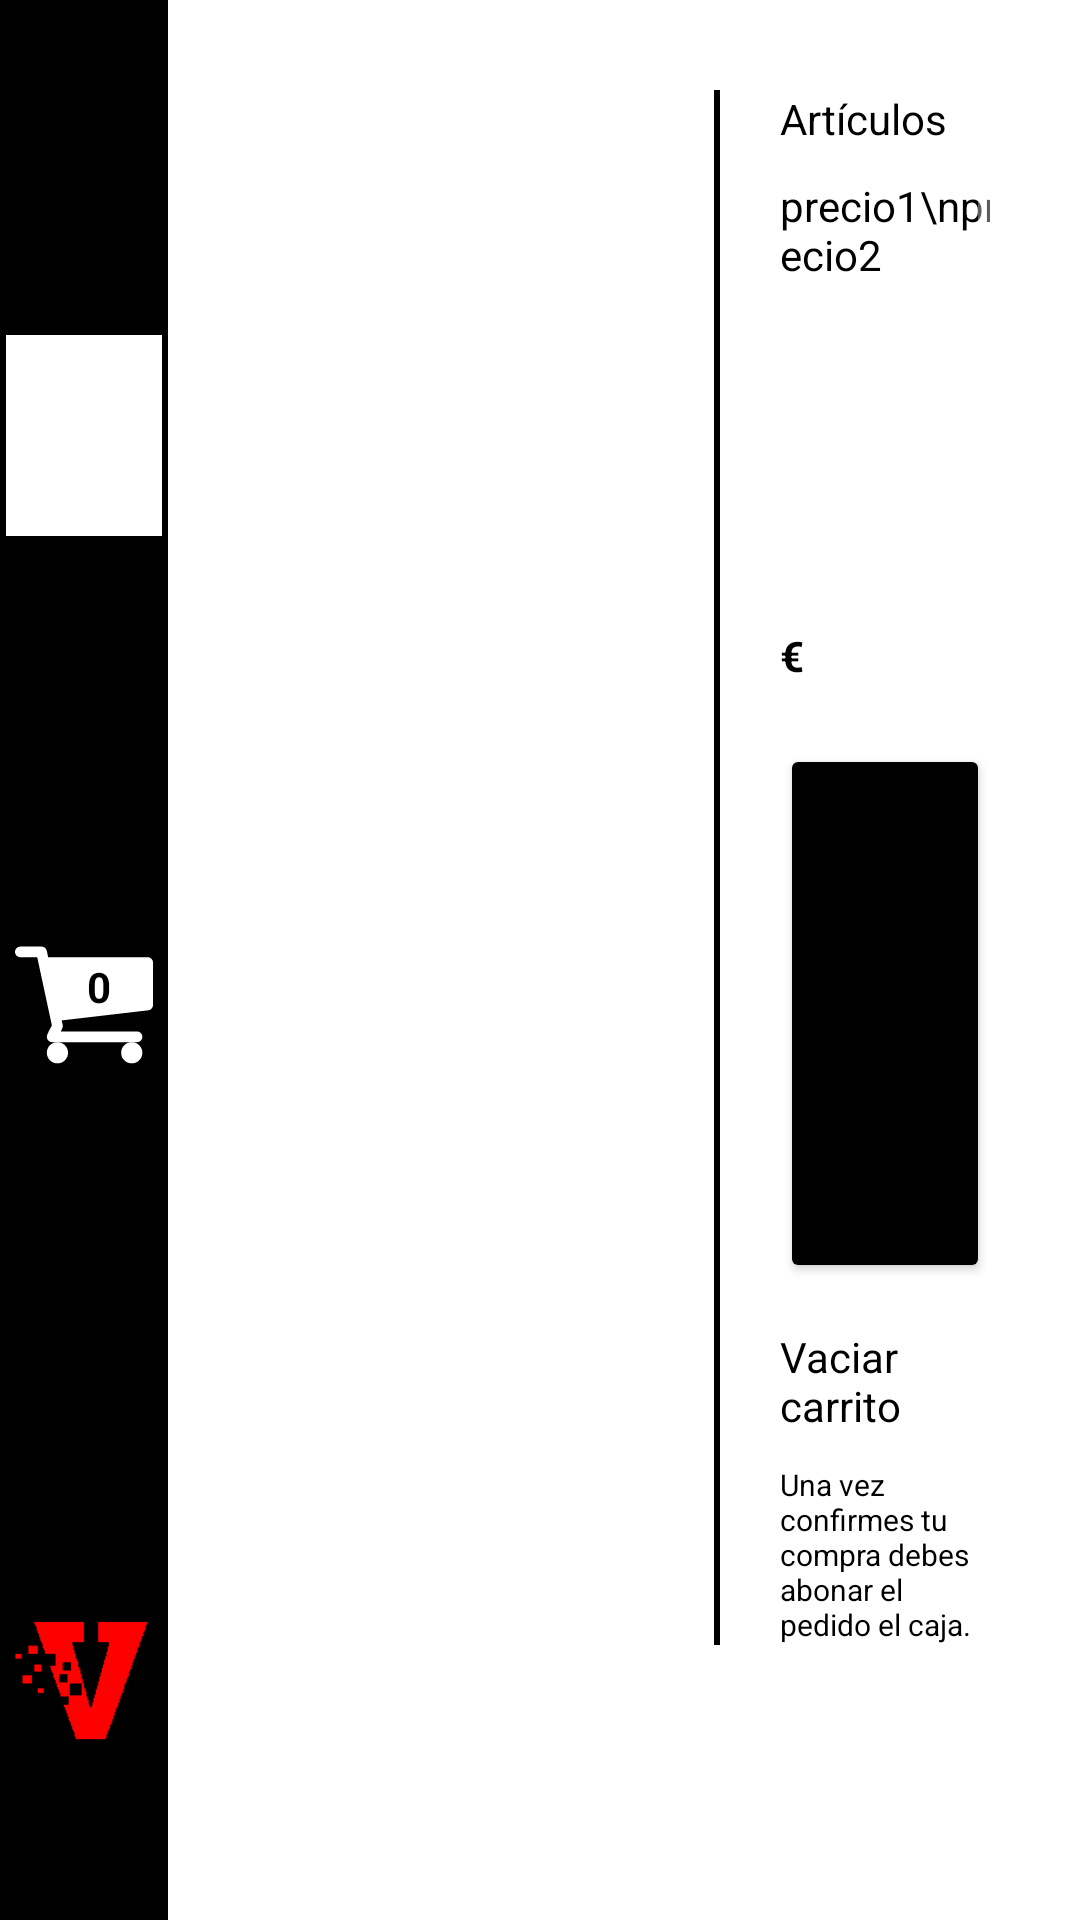

Icon click points for this 1080 x 1920 phone screenshot, format [x,y]:
carrito: [84,1005]
